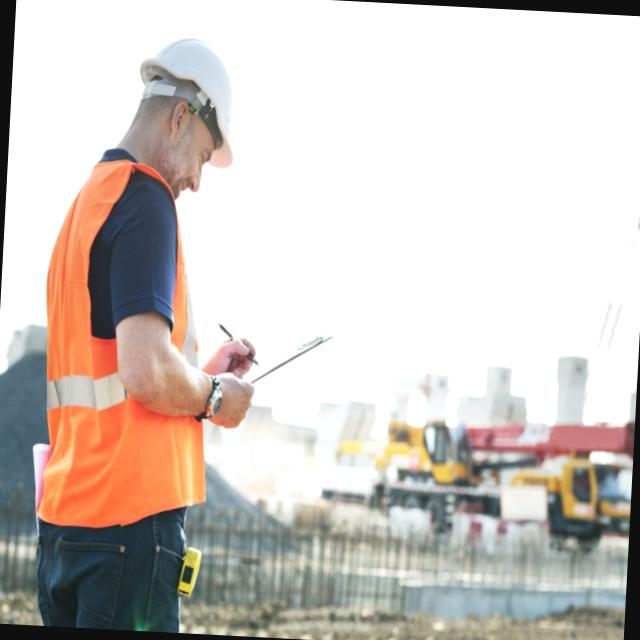helmet: (128, 30, 243, 176)
vest: (26, 142, 226, 540)
